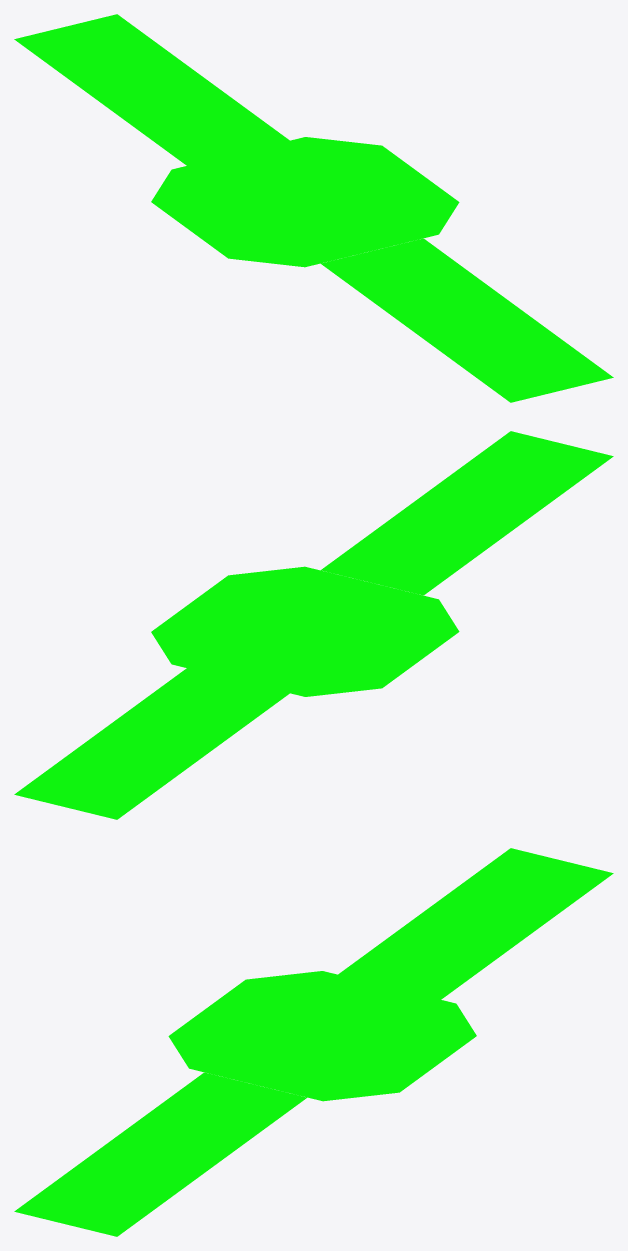
File: s02a_ga1-floor.glb
The picture shows the model from 3 angles, top to bottom: view 1: azimuth 30°, elevation 25°; view 2: azimuth 150°, elevation 25°; view 3: azimuth 330°, elevation 25°; orthographic projection.
Visible parts, largest first — view 1: collision_floor-colonly; view 2: collision_floor-colonly; view 3: collision_floor-colonly.
Part boxes in pixels (box(x1,y1,x2,y2)): collision_floor-colonly: box(14, 14, 613, 402); collision_floor-colonly: box(14, 431, 613, 819); collision_floor-colonly: box(14, 848, 613, 1236).
Size of the model in its own units: 13.44 by 0 by 50.
